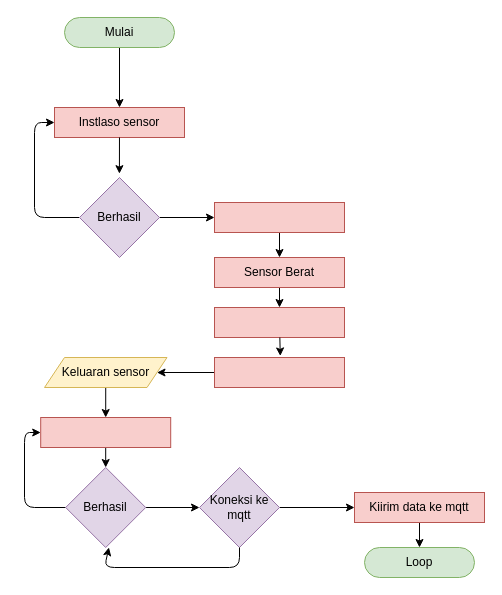
Image size: 502x595. Some labels were removed from this diagram. The box of each missing label's shape, as (x1, y1, x2, y2) in pixels:
Sambungkan ke jaringan: (40, 416, 171, 448)
Sensor Dht11: (214, 356, 344, 388)
Sensor DO: (214, 202, 344, 232)
Sensor Tinggi air: (214, 306, 344, 338)
